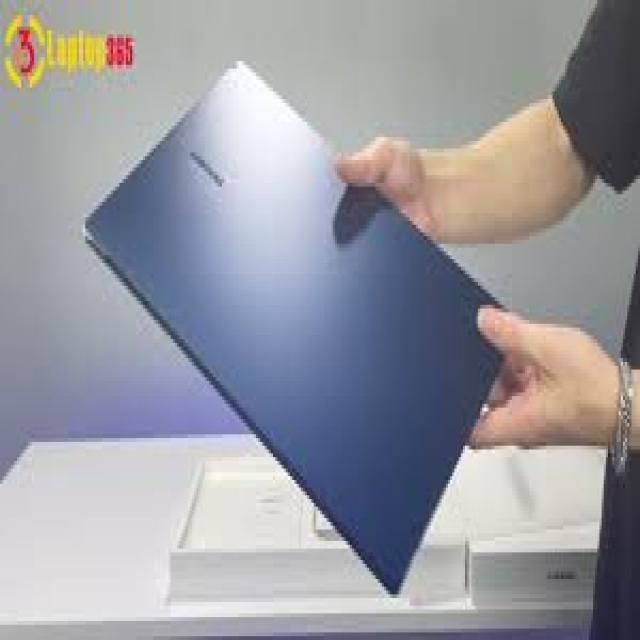laptop: (81, 57, 520, 598)
